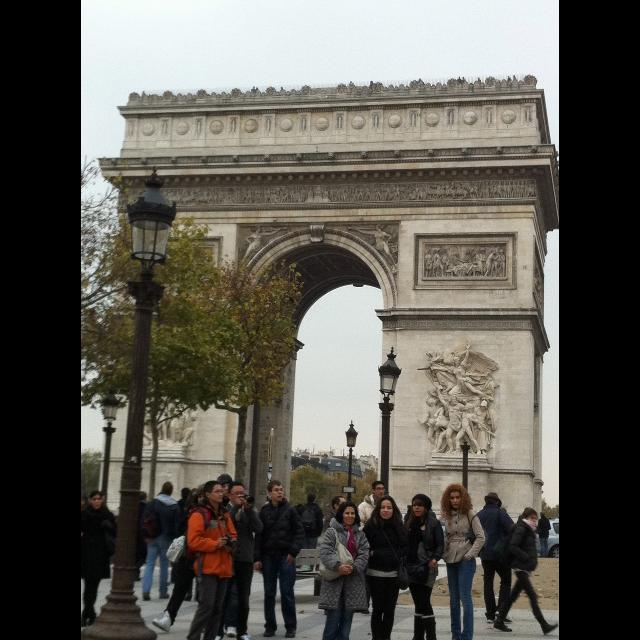head: (202, 481, 224, 504), (197, 484, 217, 508), (226, 482, 246, 506), (412, 496, 430, 518), (218, 474, 234, 496), (268, 481, 284, 503), (341, 503, 357, 525), (449, 487, 465, 509), (380, 496, 394, 520), (522, 509, 538, 527), (331, 496, 347, 512), (371, 481, 385, 499), (90, 490, 102, 510), (162, 482, 174, 496), (486, 493, 499, 505), (137, 492, 147, 502), (308, 493, 316, 502), (540, 512, 546, 516)
person: (150, 482, 222, 634), (201, 473, 255, 637), (472, 491, 516, 625), (356, 479, 398, 619), (81, 488, 119, 628), (321, 494, 362, 620), (140, 479, 182, 601), (126, 490, 154, 582), (301, 492, 325, 572), (533, 511, 553, 559)
